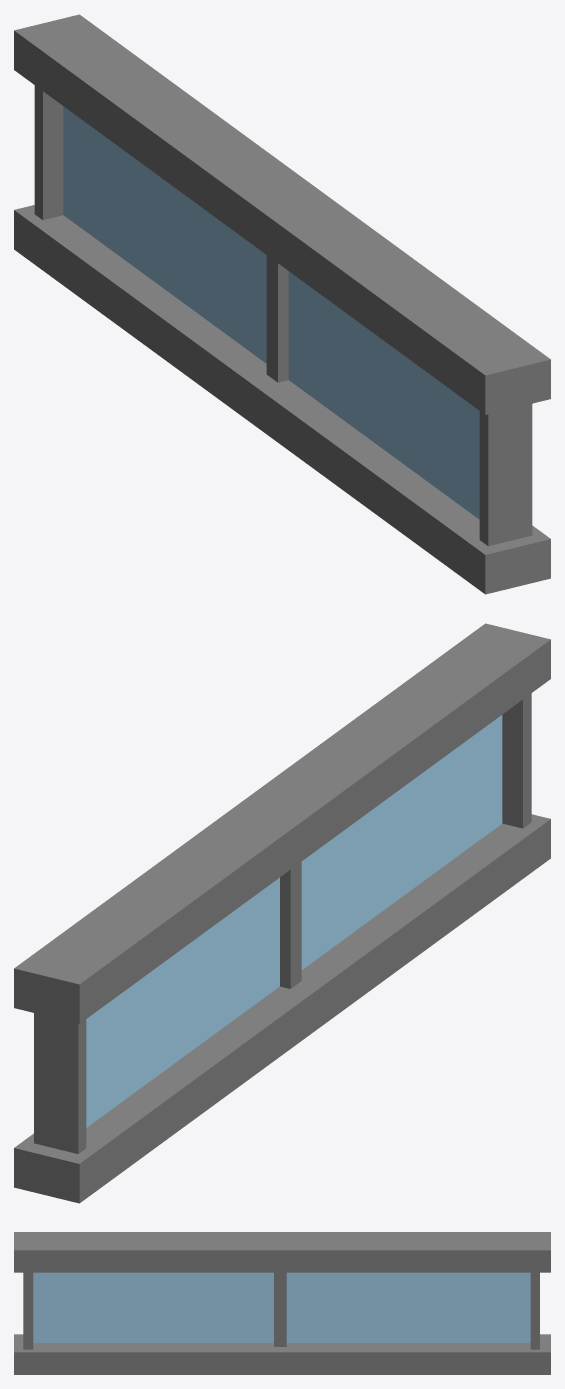
Rendered from smallWindow.fbx.
3 views of the same model, one above another, from view 1: azimuth 30°, elevation 25°; view 2: azimuth 150°, elevation 25°; view 3: azimuth 270°, elevation 25° (orthographic). The views are drawn at different scales.
Parts seen in each view (by area): view 1: guard.004, glass.001, guard.003, window border.001, vertical guard.003; view 2: guard.004, glass.001, guard.003, window border.001, vertical guard.003; view 3: glass.001, guard.004, guard.003, window border.001, vertical guard.003.
Part boxes in pixels (x1=…): guard.004: x1=14, y1=14, x2=550, y2=414; glass.001: x1=63, y1=106, x2=479, y2=519; guard.003: x1=14, y1=205, x2=550, y2=594; window border.001: x1=34, y1=85, x2=532, y2=546; vertical guard.003: x1=266, y1=255, x2=288, y2=382; guard.004: x1=14, y1=623, x2=550, y2=1023; glass.001: x1=86, y1=715, x2=502, y2=1127; guard.003: x1=14, y1=814, x2=550, y2=1203; window border.001: x1=34, y1=693, x2=531, y2=1153; vertical guard.003: x1=280, y1=862, x2=301, y2=988; glass.001: x1=33, y1=1272, x2=530, y2=1342; guard.004: x1=14, y1=1232, x2=550, y2=1272; guard.003: x1=14, y1=1334, x2=550, y2=1374; window border.001: x1=23, y1=1272, x2=539, y2=1349; vertical guard.003: x1=274, y1=1272, x2=286, y2=1346.
Size of the model in its own units: 2572 by 10033 by 806.
